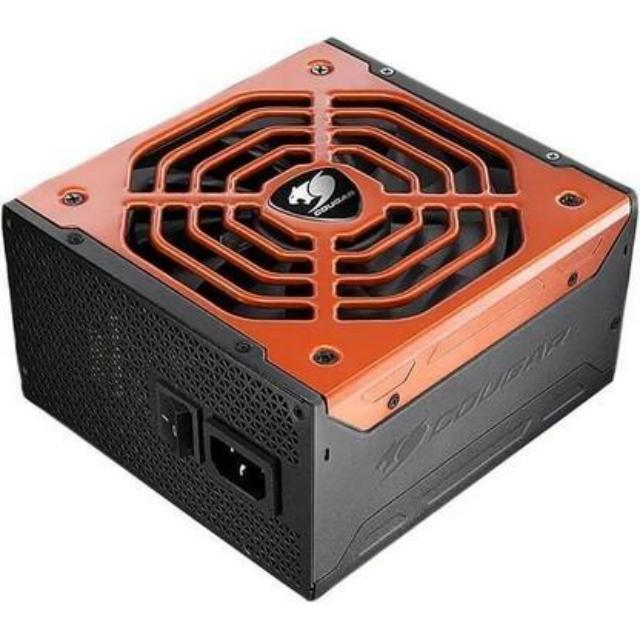PSU: (0, 26, 640, 606)
